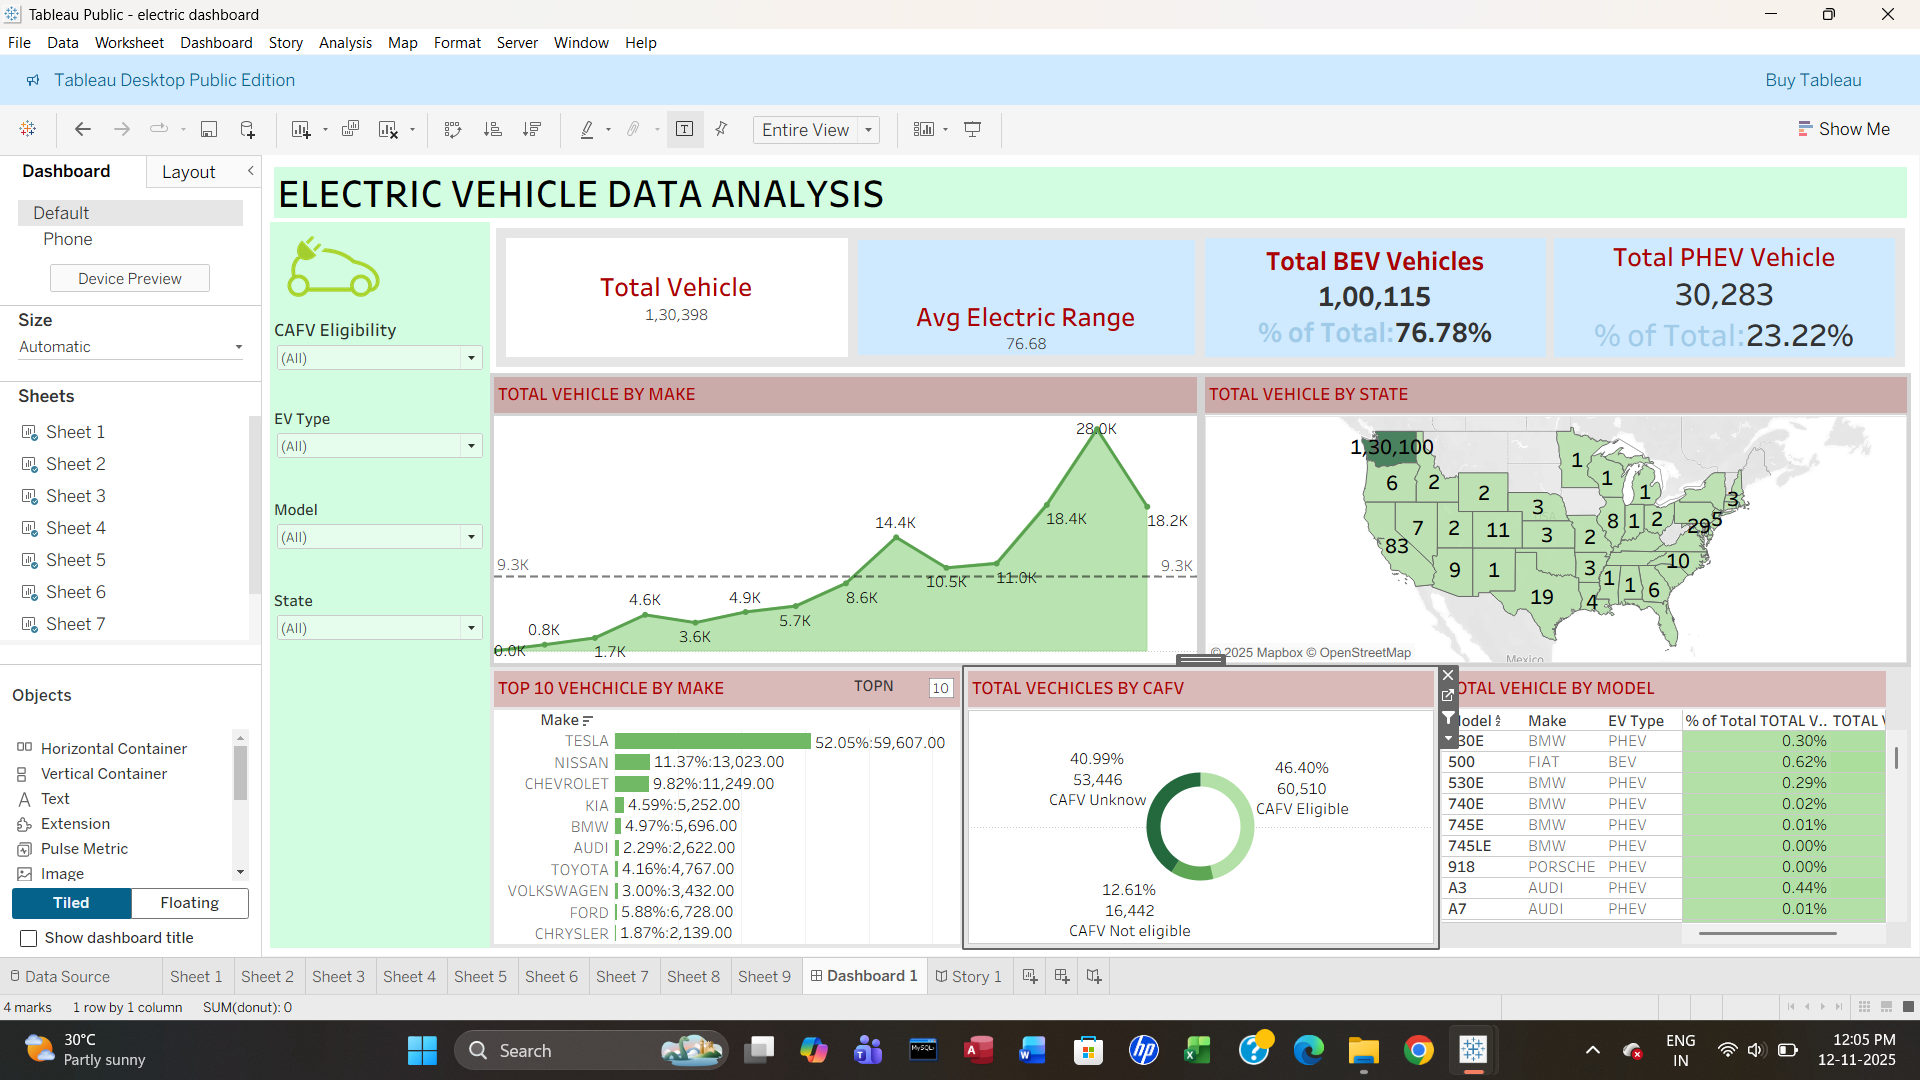

What the dashboard file says about the page in this screenshot:
{"tool":"tableau","page":{"name":"Dashboard 1","canvas":[1000,1000],"units":"permille","ordinal":0},"visuals":[{"type":"title","box":[4.8,10,990.3,73.7]},{"type":"image","param":"Image/ChatGPT Image Aug 19, 2025, 11_45_00 AM.png","box":[4.8,83.7,132.8,113.6]},{"type":"worksheet","title":"Sheet 1","mark":"Automatic","box":[144.8,98.6,211.2,158.6]},{"type":"worksheet","title":"Sheet 2","mark":"Automatic","box":[356.1,98.6,210.6,158.6]},{"type":"worksheet","title":"Sheet 3","mark":"Automatic","box":[566.7,98.6,210.6,158.6]},{"type":"worksheet","title":"Sheet 4","mark":"Automatic","box":[777.3,98.6,210.6,158.6]},{"type":"filter","title":"Sheet 7","param":"[federated.11prazx152rs3l1b05w5v1onn39h].[none:Clean Alternative Fuel Vehicle (C","box":[4.8,197.2,132.8,113.6]},{"type":"worksheet","title":"Sheet 5","mark":"Area","rows":["DOL Vehicle ID","DOL Vehicle ID"],"cols":["Model Year"],"box":[137.6,272.2,429.1,367]},{"type":"worksheet","title":"Sheet 6","mark":"Automatic","box":[566.7,272.2,428.5,367]},{"type":"filter","title":"Sheet 7","param":"[federated.11prazx152rs3l1b05w5v1onn39h].[none:Electric Vehicle Type:nk]","box":[4.8,310.9,132.8,113.6]},{"type":"filter","title":"Sheet 7","param":"[federated.11prazx152rs3l1b05w5v1onn39h].[none:Model:nk]","box":[4.8,424.5,132.8,113.6]},{"type":"filter","title":"Sheet 7","param":"[federated.11prazx152rs3l1b05w5v1onn39h].[none:State:nk]","box":[4.8,538.1,132.8,113.6]},{"type":"worksheet","title":"Sheet 7","mark":"Bar","rows":["Make"],"cols":["Electric Range"],"box":[137.6,639.2,286.1,350.8]},{"type":"worksheet","title":"Sheet 8","mark":"Pie","rows":["Calculation_504121739333042176","Calculation_504121739333042176"],"box":[423.7,639.2,286.1,350.8]},{"type":"worksheet","title":"Sheet 9","mark":"Square","rows":["Model","Make","Electric Vehicle Type"],"box":[709.7,639.2,285.4,350.8]},{"type":"parameter","param":"[Parameters].[Parameter 1]","box":[357.3,649.2,62.2,31.2]},{"type":"blank","box":[4.8,651.7,132.8,113.6]},{"type":"blank","box":[4.8,765.3,132.8,112.4]},{"type":"blank","box":[4.8,877.6,132.8,112.4]}]}

Visuals, with their boxes on the dashboard's canvas, which has no fixed pixel size, in thousandths of its width and height (x1, y1, x2, y2). These are canvas units, not pixel positions in the 1920x1080 screenshot, which may show the page scaled, cropped or inside an application window:
title: bbox=(5, 10, 995, 84)
image: bbox=(5, 84, 138, 197)
"Sheet 1" worksheet: bbox=(145, 99, 356, 257)
"Sheet 2" worksheet: bbox=(356, 99, 567, 257)
"Sheet 3" worksheet: bbox=(567, 99, 777, 257)
"Sheet 4" worksheet: bbox=(777, 99, 988, 257)
"Sheet 7" filter: bbox=(5, 197, 138, 311)
"Sheet 5" worksheet (Area marks): bbox=(138, 272, 567, 639)
"Sheet 6" worksheet: bbox=(567, 272, 995, 639)
"Sheet 7" filter: bbox=(5, 311, 138, 424)
"Sheet 7" filter: bbox=(5, 424, 138, 538)
"Sheet 7" filter: bbox=(5, 538, 138, 652)
"Sheet 7" worksheet (Bar marks): bbox=(138, 639, 424, 990)
"Sheet 8" worksheet (Pie marks): bbox=(424, 639, 710, 990)
"Sheet 9" worksheet (Square marks): bbox=(710, 639, 995, 990)
parameter: bbox=(357, 649, 420, 680)
blank: bbox=(5, 652, 138, 765)
blank: bbox=(5, 765, 138, 878)
blank: bbox=(5, 878, 138, 990)
